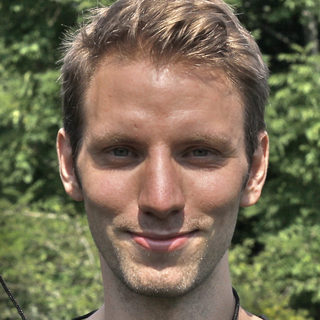eye: (174, 140, 225, 166), (96, 140, 145, 165)
